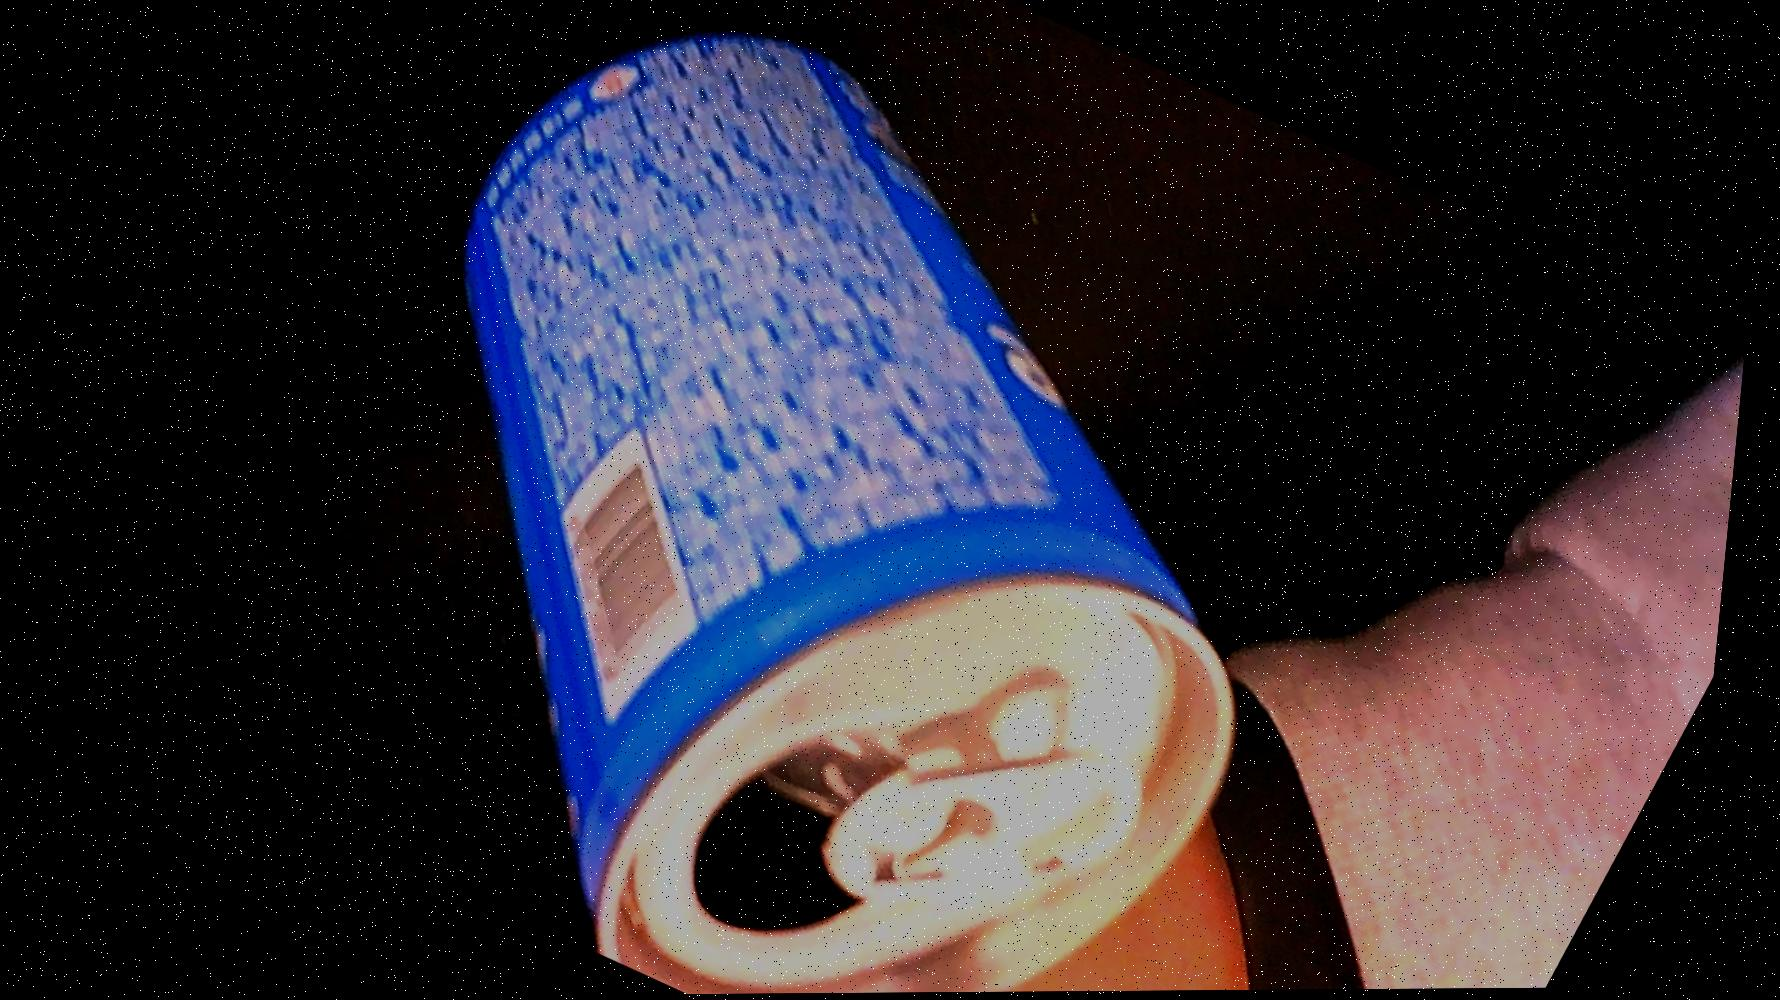letsbe: (166, 0, 1498, 999)
